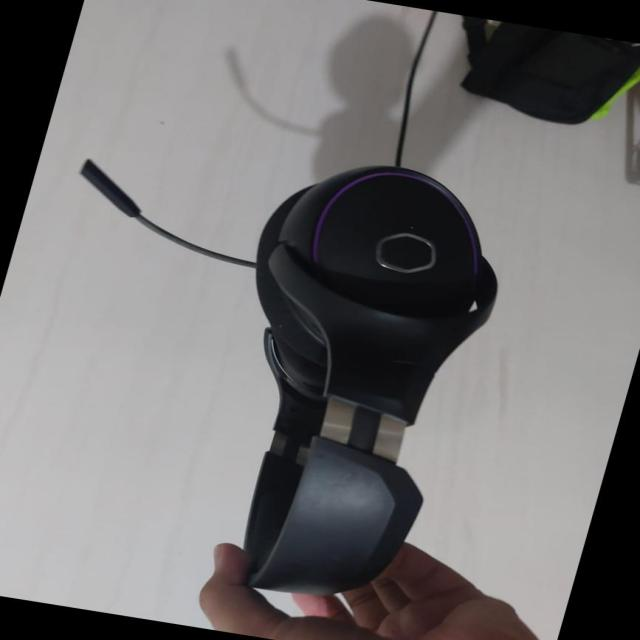earphone: (121, 80, 490, 621)
